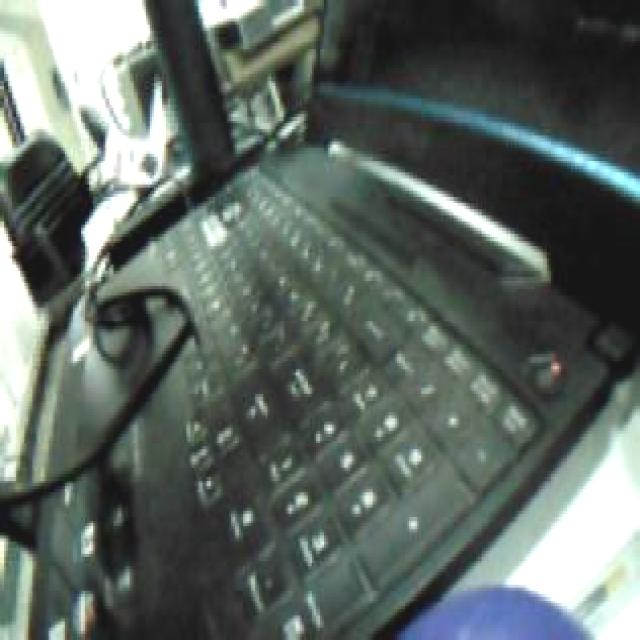BallPurple: (396, 581, 599, 640)
